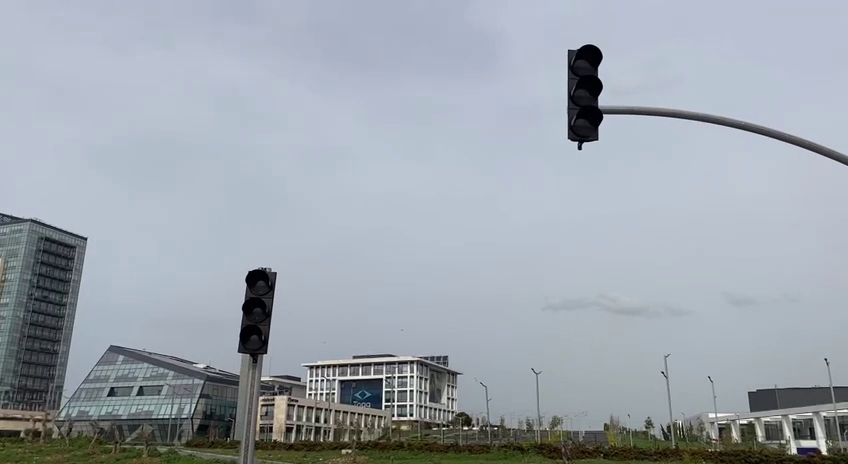trafficLight: (563, 40, 609, 153), (233, 263, 281, 364)
